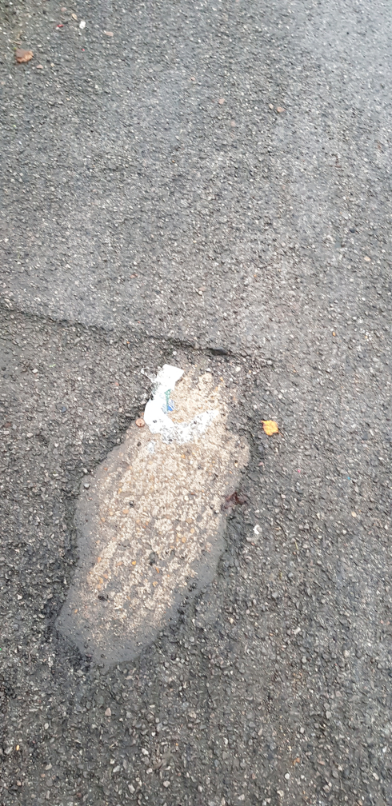pothole: (40, 331, 261, 673)
